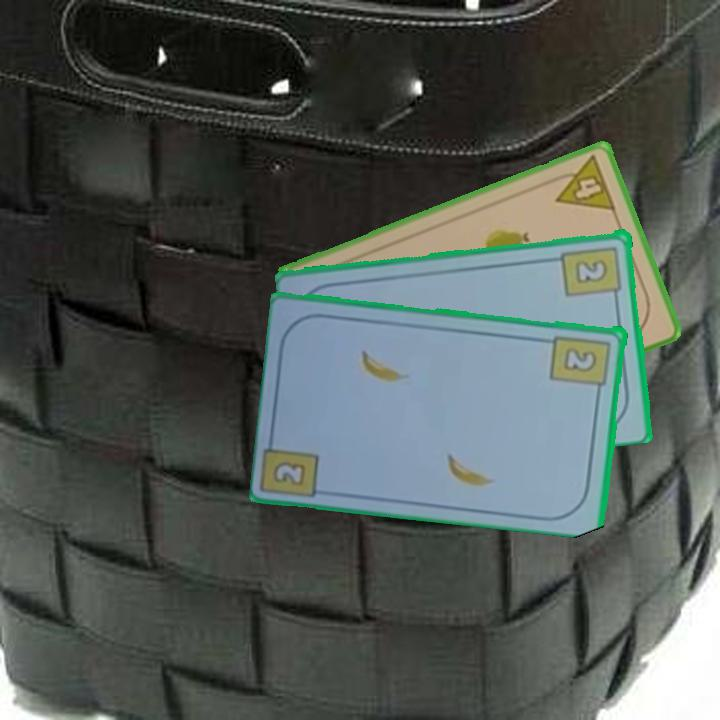2b: (548, 332, 614, 398), (559, 242, 625, 304), (269, 457, 309, 489)
4p: (545, 152, 619, 214)
